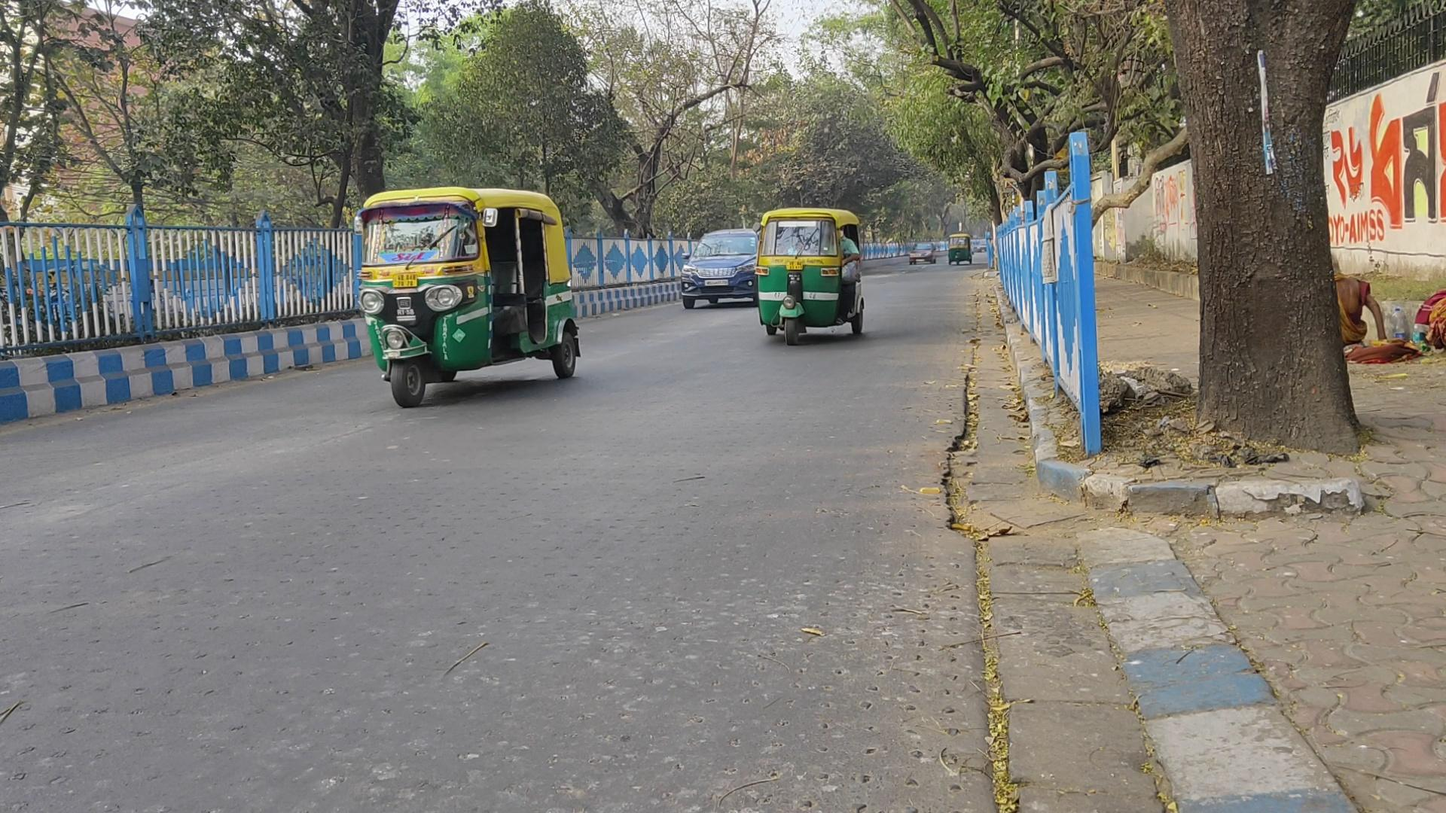Auto: (361, 187, 581, 407), (757, 207, 865, 345), (947, 233, 973, 266)
car: (679, 229, 759, 311), (909, 241, 937, 265)
